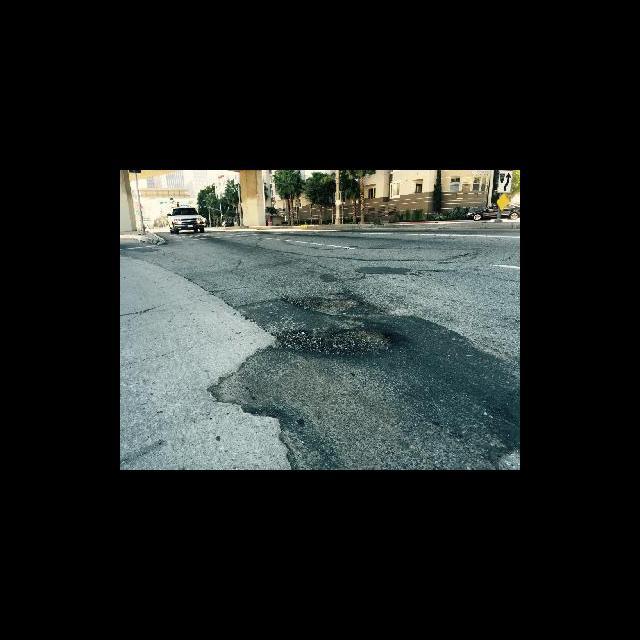lubang_kecil: (275, 319, 405, 364), (299, 289, 363, 323)
